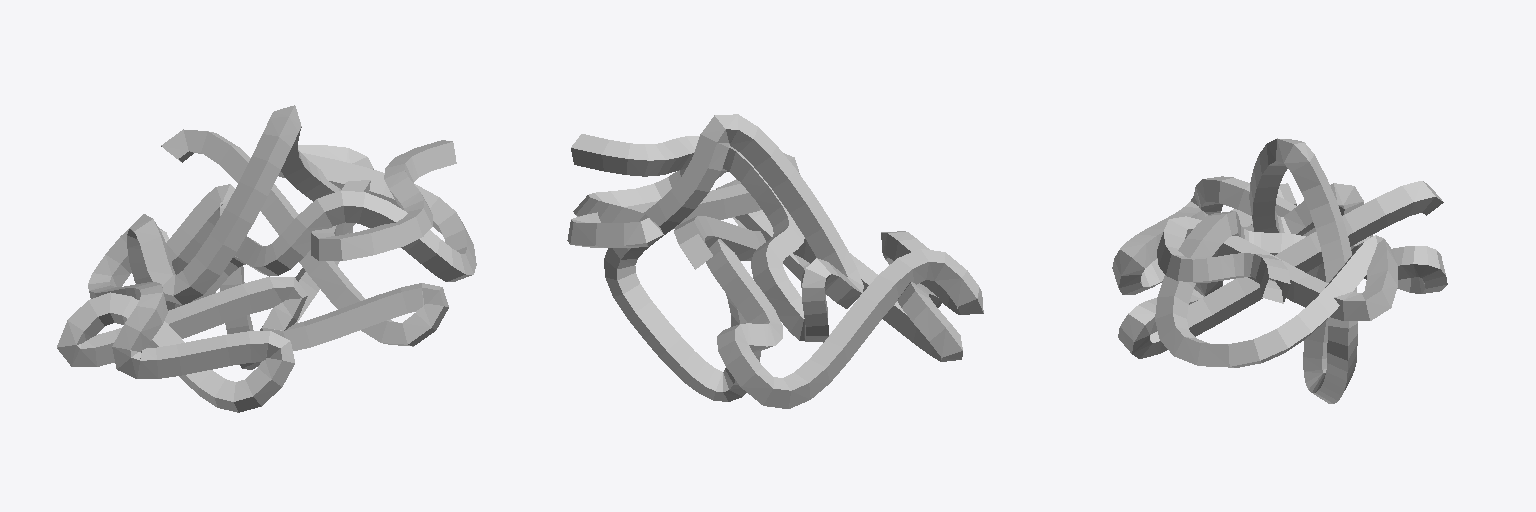
The model's file is small intestine.001.obj.
3 renders of one model, left to right at view 1: azimuth 30°, elevation 25°; view 2: azimuth 150°, elevation 25°; view 3: azimuth 270°, elevation 25°, orthographic.
Visible parts, largest first — view 1: small_intestine.001_CUBezierCurve.006; view 2: small_intestine.001_CUBezierCurve.006; view 3: small_intestine.001_CUBezierCurve.006.
Part boxes in pixels (bbox=[...]): small_intestine.001_CUBezierCurve.006: bbox=[57, 105, 476, 412]; small_intestine.001_CUBezierCurve.006: bbox=[567, 114, 983, 408]; small_intestine.001_CUBezierCurve.006: bbox=[1112, 138, 1447, 403].
Size of the model in its own units: 2.97 by 1.94 by 2.19.